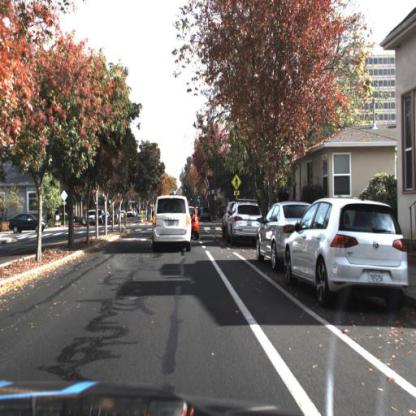car: (284, 195, 411, 317), (255, 200, 312, 270), (150, 190, 195, 258), (225, 199, 264, 248), (10, 210, 52, 237), (191, 206, 201, 242)
